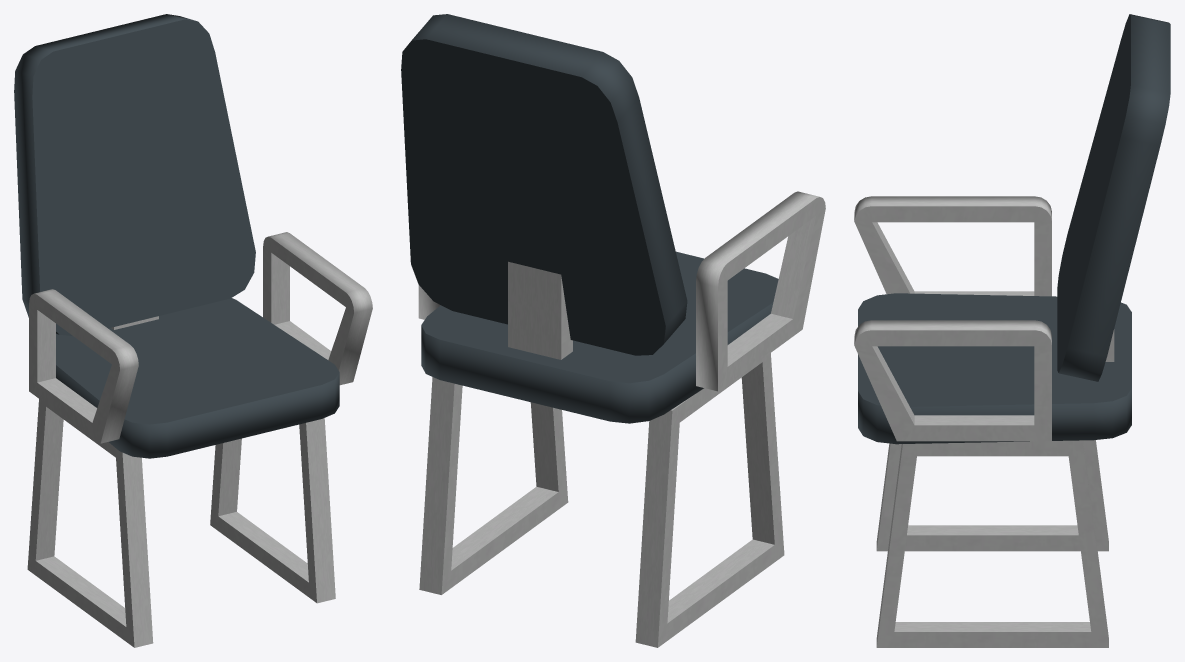
Rendered from propOfficeChair.fbx.
3 views of the same model, side by side, from view 1: azimuth 30°, elevation 25°; view 2: azimuth 150°, elevation 25°; view 3: azimuth 270°, elevation 25° (orthographic). The views are drawn at different scales.
Visible parts, largest first — view 1: propOfficeChair; view 2: propOfficeChair; view 3: propOfficeChair.
Part boxes in pixels (<box>): propOfficeChair: <box>14,14,372,647</box>; propOfficeChair: <box>401,14,825,647</box>; propOfficeChair: <box>854,14,1170,647</box>.
Bounding box in the file's own units: 67.25 × 128 × 67.12.
Materials: 2 (1 with a texture image).
